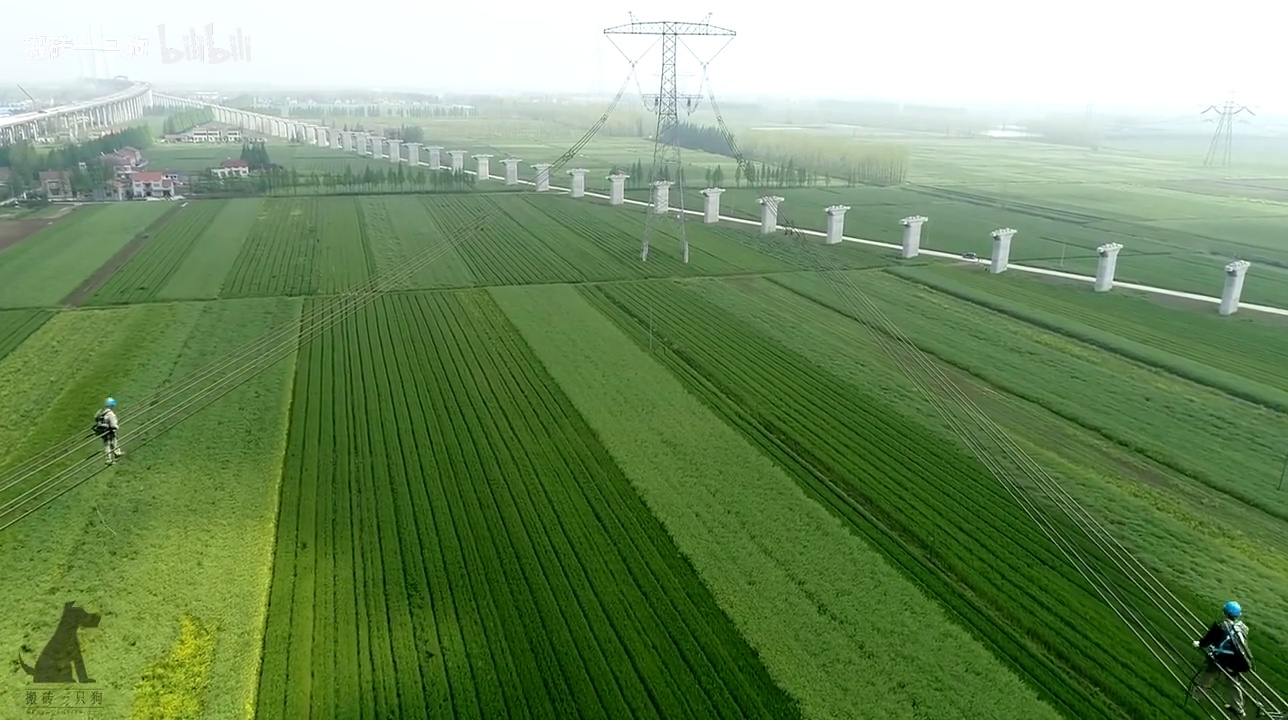tower_body: (591, 8, 751, 277)
tower_foot: (639, 201, 698, 267)
tower_head: (599, 15, 741, 45)
